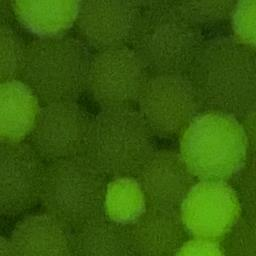negative: (22, 36, 91, 102), (89, 101, 150, 174), (135, 7, 199, 71), (200, 38, 256, 109), (42, 157, 103, 219), (145, 73, 198, 135), (0, 138, 43, 211), (90, 49, 146, 103), (35, 101, 89, 154), (12, 212, 74, 256), (142, 149, 190, 202), (133, 204, 180, 255), (80, 0, 134, 44), (76, 224, 133, 256), (0, 23, 22, 75), (227, 221, 256, 255), (235, 169, 255, 216), (0, 230, 14, 256)
positive: (180, 111, 250, 177), (179, 175, 243, 237), (13, 0, 79, 39), (0, 77, 39, 141), (103, 177, 148, 224), (233, 0, 256, 47), (174, 237, 227, 256)
